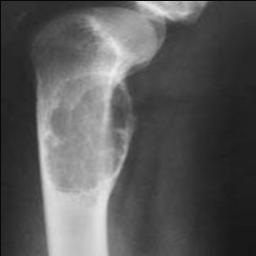cancer: (36, 73, 133, 193)
